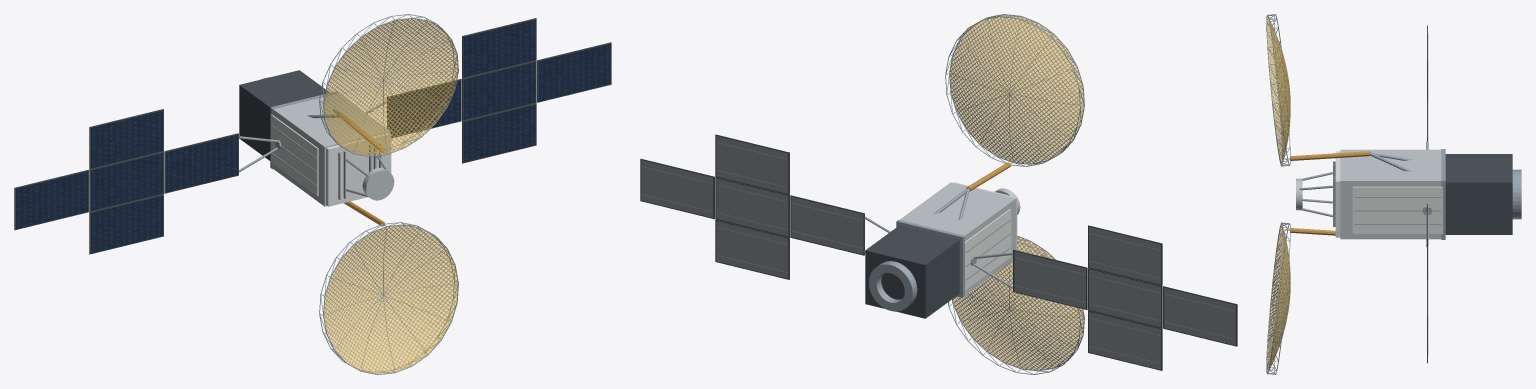
Rendered from ssl-1300-xm-dual-mesh.glb.
The picture shows the model from 3 angles, left to right: view 1: azimuth 30°, elevation 25°; view 2: azimuth 150°, elevation 25°; view 3: azimuth 270°, elevation 25°; orthographic projection. The views are drawn at different scales.
Visible parts, largest first — view 1: Solar cell panel (×10), Deployable mesh reflector (×2), Payload module, Service module, Earth-facing deck, Radiator face, Antenna tower platform; view 2: Rear array substrate (×10), Deployable mesh reflector (×2), Service module, Payload module, Radiator face, Launch adapter ring, Module interface; view 3: Service module, Payload module, Radiator face, Deployable mesh reflector (×2), Reflector deployment boom (×2), Launch adapter ring, Earth-facing deck, Module interface.
Part boxes in pixels (x1=…): Solar cell panel (×10): x1=16, y1=19, x2=610, y2=253; Deployable mesh reflector (×2): x1=323, y1=18, x2=457, y2=374; Payload module: x1=273, y1=93, x2=389, y2=206; Service module: x1=239, y1=70, x2=329, y2=160; Earth-facing deck: x1=326, y1=133, x2=391, y2=206; Radiator face: x1=271, y1=114, x2=318, y2=196; Antenna tower platform: x1=362, y1=167, x2=394, y2=200; Rear array substrate (×10): x1=641, y1=136, x2=1235, y2=369; Deployable mesh reflector (×2): x1=949, y1=14, x2=1083, y2=370; Service module: x1=865, y1=225, x2=959, y2=318; Payload module: x1=899, y1=182, x2=1016, y2=294; Radiator face: x1=964, y1=209, x2=1011, y2=290; Launch adapter ring: x1=868, y1=261, x2=917, y2=311; Module interface: x1=896, y1=219, x2=964, y2=297; Service module: x1=1445, y1=154, x2=1512, y2=234; Payload module: x1=1340, y1=149, x2=1441, y2=239; Radiator face: x1=1352, y1=186, x2=1442, y2=233; Deployable mesh reflector (×2): x1=1266, y1=17, x2=1290, y2=372; Reflector deployment boom (×2): x1=1290, y1=151, x2=1369, y2=235; Launch adapter ring: x1=1512, y1=169, x2=1521, y2=219; Earth-facing deck: x1=1335, y1=151, x2=1340, y2=237; Module interface: x1=1441, y1=149, x2=1445, y2=239.
Size of the model in its own units: 30.96 by 17.6 by 11.74.
8 materials, 2 textured.
